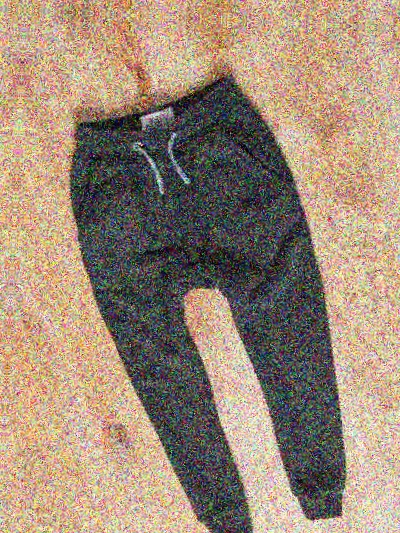Pants: (33, 39, 400, 533), (60, 0, 400, 1)
